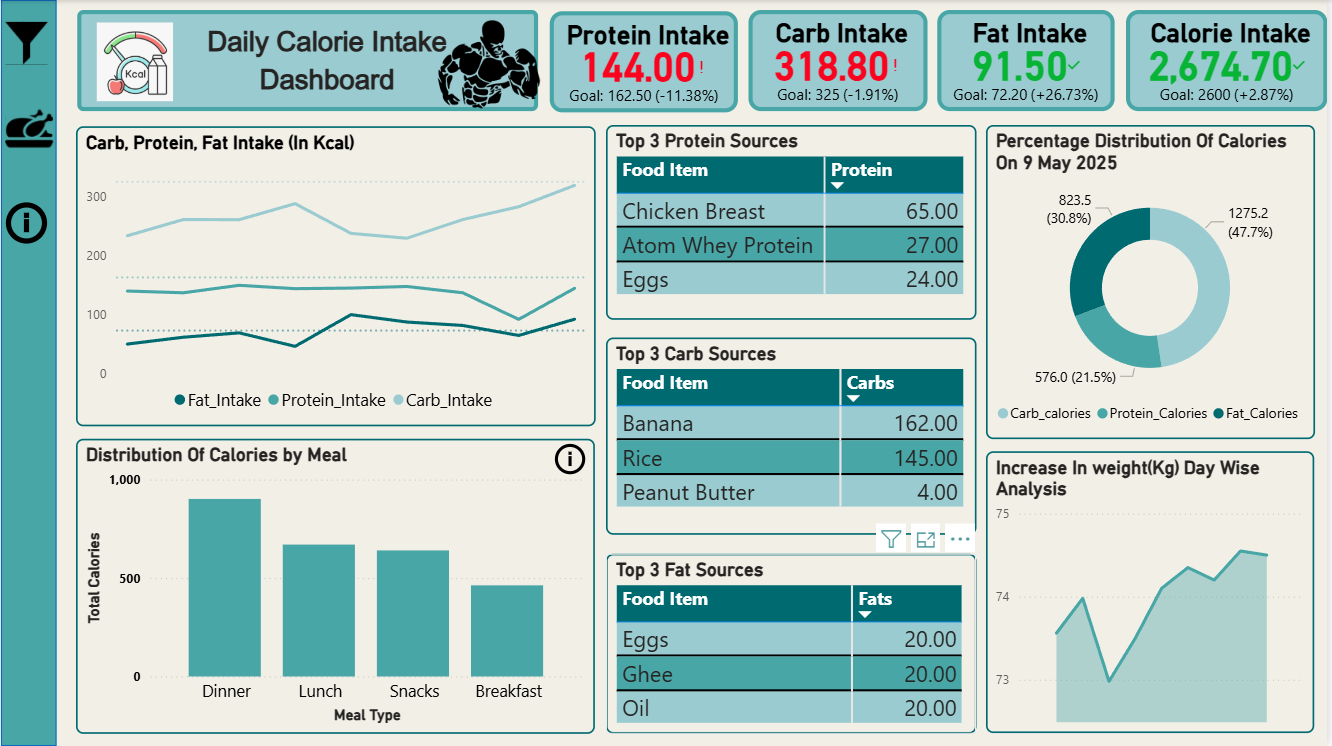

The page's visual inventory and layout, read from the dashboard file:
{"tool":"powerbi","page":{"name":"Dashboard","canvas":[1280,720],"ordinal":0},"visuals":[{"type":"textbox","box":[73.6,9.7,445.2,97.7],"z":0},{"type":"image","box":[84.5,16.9,89.3,85.7],"z":1000},{"type":"kpi","title":"Protein Intake","fields":{"Indicator":["All_measure.Protein_Intake"],"Goal":["All_measure.Target_Protein"],"TrendLine":["Weight.Date.Variation.Date Hierarchy.Year"]},"box":[529.6,10.4,182,97.6],"z":2000},{"type":"kpi","title":"Carb Intake","fields":{"Indicator":["All_measure.Carb_Intake"],"Goal":["All_measure.Target_Carbs"],"TrendLine":["Weight.Date.Variation.Date Hierarchy.Year"]},"box":[721.4,9.7,172.5,97.7],"z":3000},{"type":"kpi","title":"Fat Intake ","fields":{"Indicator":["All_measure.Fat_Intake"],"Goal":["All_measure.Target_Fats"],"TrendLine":["Weight.Date.Variation.Date Hierarchy.Year"]},"box":[904.1,9.7,171.2,97.8],"z":4000},{"type":"donutChart","fields":{"Y":["All_measure.Carb_calories","All_measure.Protein_Calories","All_measure.Fat_Calories"]},"box":[950.7,120.6,317.3,302.8],"z":5000},{"type":"lineChart","title":"Carb, Protein, Fat Intake (In Kcal) ","fields":{"Y":["All_measure.Fat_Intake","All_measure.Protein_Intake","All_measure.Carb_Intake"],"Category":["Weight.Date.Variation.Date Hierarchy.Year","Weight.Date.Variation.Date Hierarchy.Month","Weight.Date.Variation.Date Hierarchy.Day"]},"box":[72.5,121.3,501.5,290],"z":6000},{"type":"areaChart","title":"Increase In weight(Kg) Day Wise Analysis","fields":{"Category":["Weight.Date.Variation.Date Hierarchy.Day"],"Y":["Sum(Weight.Weight)"]},"box":[951.1,436.1,316.9,272],"z":7000},{"type":"kpi","title":"Calorie Intake","fields":{"TrendLine":["Weight.Date.Variation.Date Hierarchy.Year"],"Indicator":["All_measure.Calorie_Intake"],"Goal":["All_measure.Target Calories"]},"box":[1085.6,9.7,194.4,97.8],"z":8000},{"type":"tableEx","title":"Top 3 Carb Sources","fields":{"Values":["Food_Log.Food_Item","Sum(Food_Log.Carbs)"]},"box":[583.3,326,357.6,190.7],"z":9000},{"type":"shape","box":[0,0,53.8,720.2],"z":10000},{"type":"tableEx","title":"Top 3 Protein Sources","fields":{"Values":["Food_Log.Food_Item","Sum(Food_Log.Protein)"]},"box":[583.3,120.6,357.6,187.9],"z":11000},{"type":"columnChart","title":"Distribution Of Calories by Meal","fields":{"Category":["Food_Log.Meal_Type"],"Y":["Sum(Food_Log.Calories)"]},"box":[72.9,423.5,500.6,284.7],"z":12000},{"type":"actionButton","box":[0,16.5,54.4,49.4],"z":13000},{"type":"actionButton","box":[0,190.3,49.2,49.2],"z":13500},{"type":"actionButton","box":[0,85.8,54.7,76.9],"z":14000},{"type":"tableEx","title":"Top 3 Fat Sources","fields":{"Values":["Food_Log.Food_Item","Sum(Food_Log.Fats)"]},"box":[583.3,534.3,357.6,173.9],"z":15000},{"type":"actionButton","box":[529.8,423.2,47.6,39.4],"z":17000},{"type":"image","box":[402.1,0,138.2,124.4],"z":18000}]}

Visuals, with their boxes on the page's 1280x720 design canvas (x1, y1, x2, y2). These are canvas units, not pixel positions in the 1332x746 screenshot, which may show the page scaled, cropped or inside an application window:
textbox: x1=74 y1=10 x2=519 y2=107
image: x1=84 y1=17 x2=174 y2=103
"Protein Intake" kpi: x1=530 y1=10 x2=712 y2=108
"Carb Intake" kpi: x1=721 y1=10 x2=894 y2=107
"Fat Intake " kpi: x1=904 y1=10 x2=1075 y2=108
donutChart - All_measure.Carb_calories x All_measure.Protein_Calories: x1=951 y1=121 x2=1268 y2=423
"Carb, Protein, Fat Intake (In Kcal) " lineChart: x1=72 y1=121 x2=574 y2=411
"Increase In weight(Kg) Day Wise Analysis" areaChart: x1=951 y1=436 x2=1268 y2=708
"Calorie Intake" kpi: x1=1086 y1=10 x2=1280 y2=108
"Top 3 Carb Sources" tableEx: x1=583 y1=326 x2=941 y2=517
shape: x1=0 y1=0 x2=54 y2=720
"Top 3 Protein Sources" tableEx: x1=583 y1=121 x2=941 y2=308
"Distribution Of Calories by Meal" columnChart: x1=73 y1=424 x2=574 y2=708
actionButton: x1=0 y1=16 x2=54 y2=66
actionButton: x1=0 y1=190 x2=49 y2=240
actionButton: x1=0 y1=86 x2=55 y2=163
"Top 3 Fat Sources" tableEx: x1=583 y1=534 x2=941 y2=708
actionButton: x1=530 y1=423 x2=577 y2=463
image: x1=402 y1=0 x2=540 y2=124
